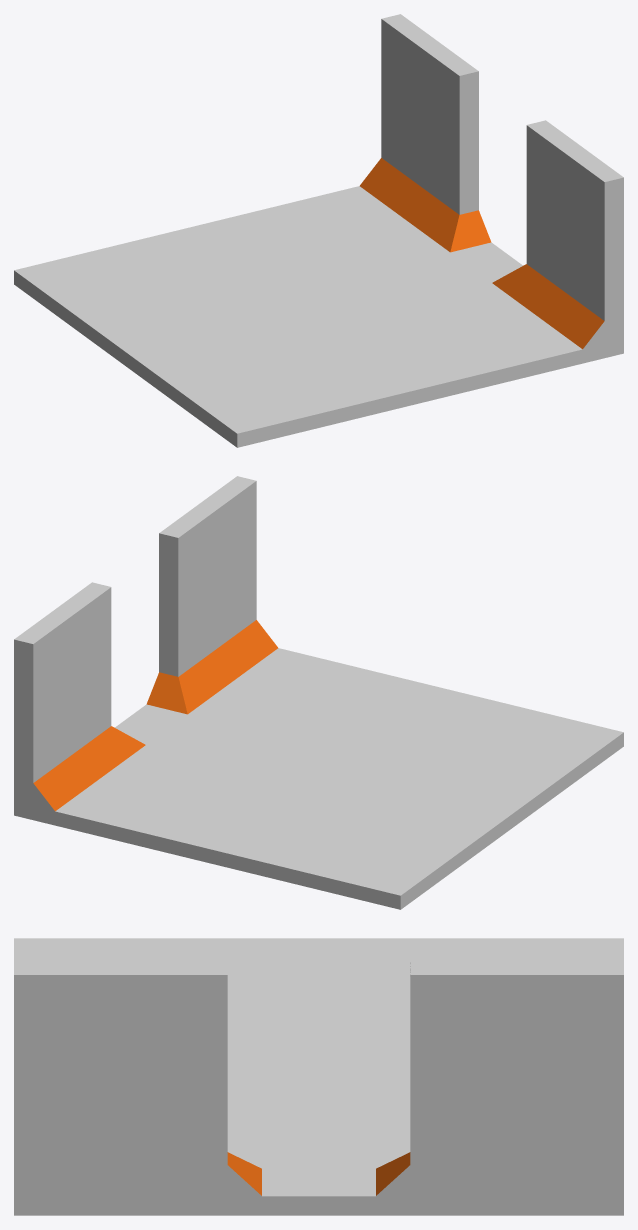
The model's file is 1-wall-1-Door.fbx.
3 views of the same model, one above another, from view 1: azimuth 30°, elevation 25°; view 2: azimuth 150°, elevation 25°; view 3: azimuth 270°, elevation 25° (orthographic). The views are drawn at different scales.
Visible parts, largest first — view 1: Плоскость.021; view 2: Плоскость.021; view 3: Плоскость.021.
Part boxes in pixels (box(x1,y1,x2,y2)): Плоскость.021: box(14, 14, 623, 447); Плоскость.021: box(14, 476, 623, 909); Плоскость.021: box(14, 938, 623, 1215).
Bounding box in the file's own units: 200 × 87 × 200.
